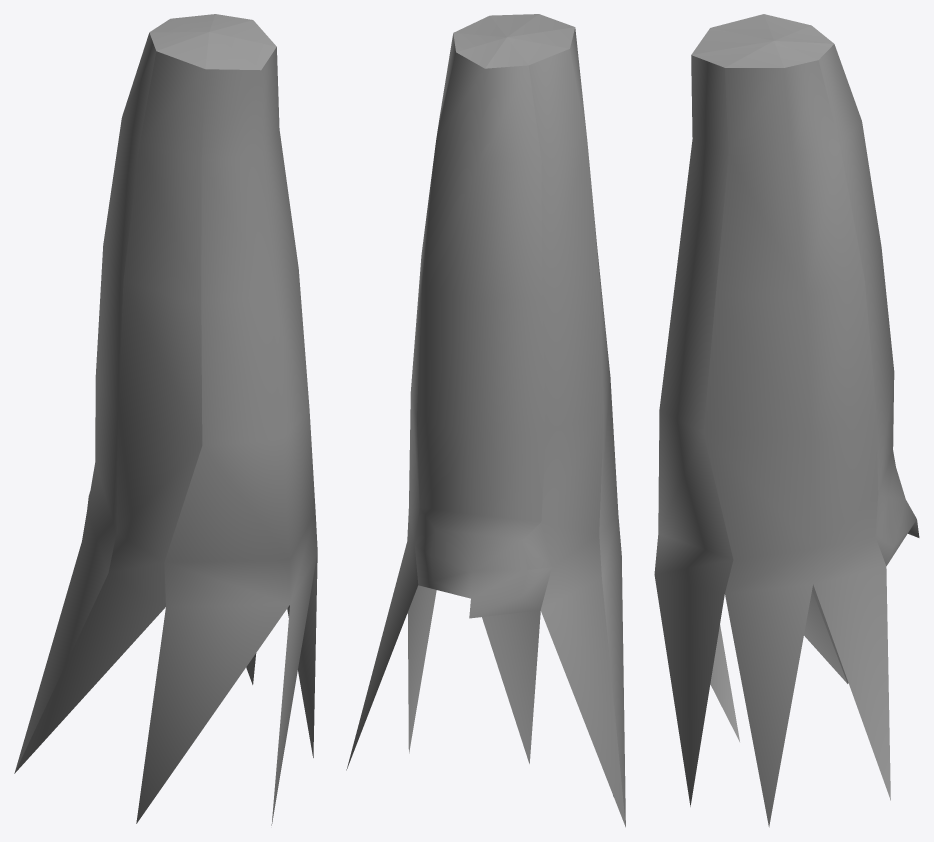
The model's file is right_leg.glb.
3 views of the same model, side by side, from view 1: azimuth 30°, elevation 25°; view 2: azimuth 150°, elevation 25°; view 3: azimuth 270°, elevation 25° (orthographic).
Parts seen in each view (by area): view 1: trousers-grey_RIGHT_LEG; view 2: trousers-grey_RIGHT_LEG; view 3: trousers-grey_RIGHT_LEG.
Part boxes in pixels (x1=…): trousers-grey_RIGHT_LEG: x1=14, y1=14, x2=317, y2=825; trousers-grey_RIGHT_LEG: x1=346, y1=14, x2=625, y2=827; trousers-grey_RIGHT_LEG: x1=654, y1=14, x2=919, y2=827.
Bounding box in the file's own units: 0.2181 × 0.6158 × 0.1954.
1 material, 1 textured.
